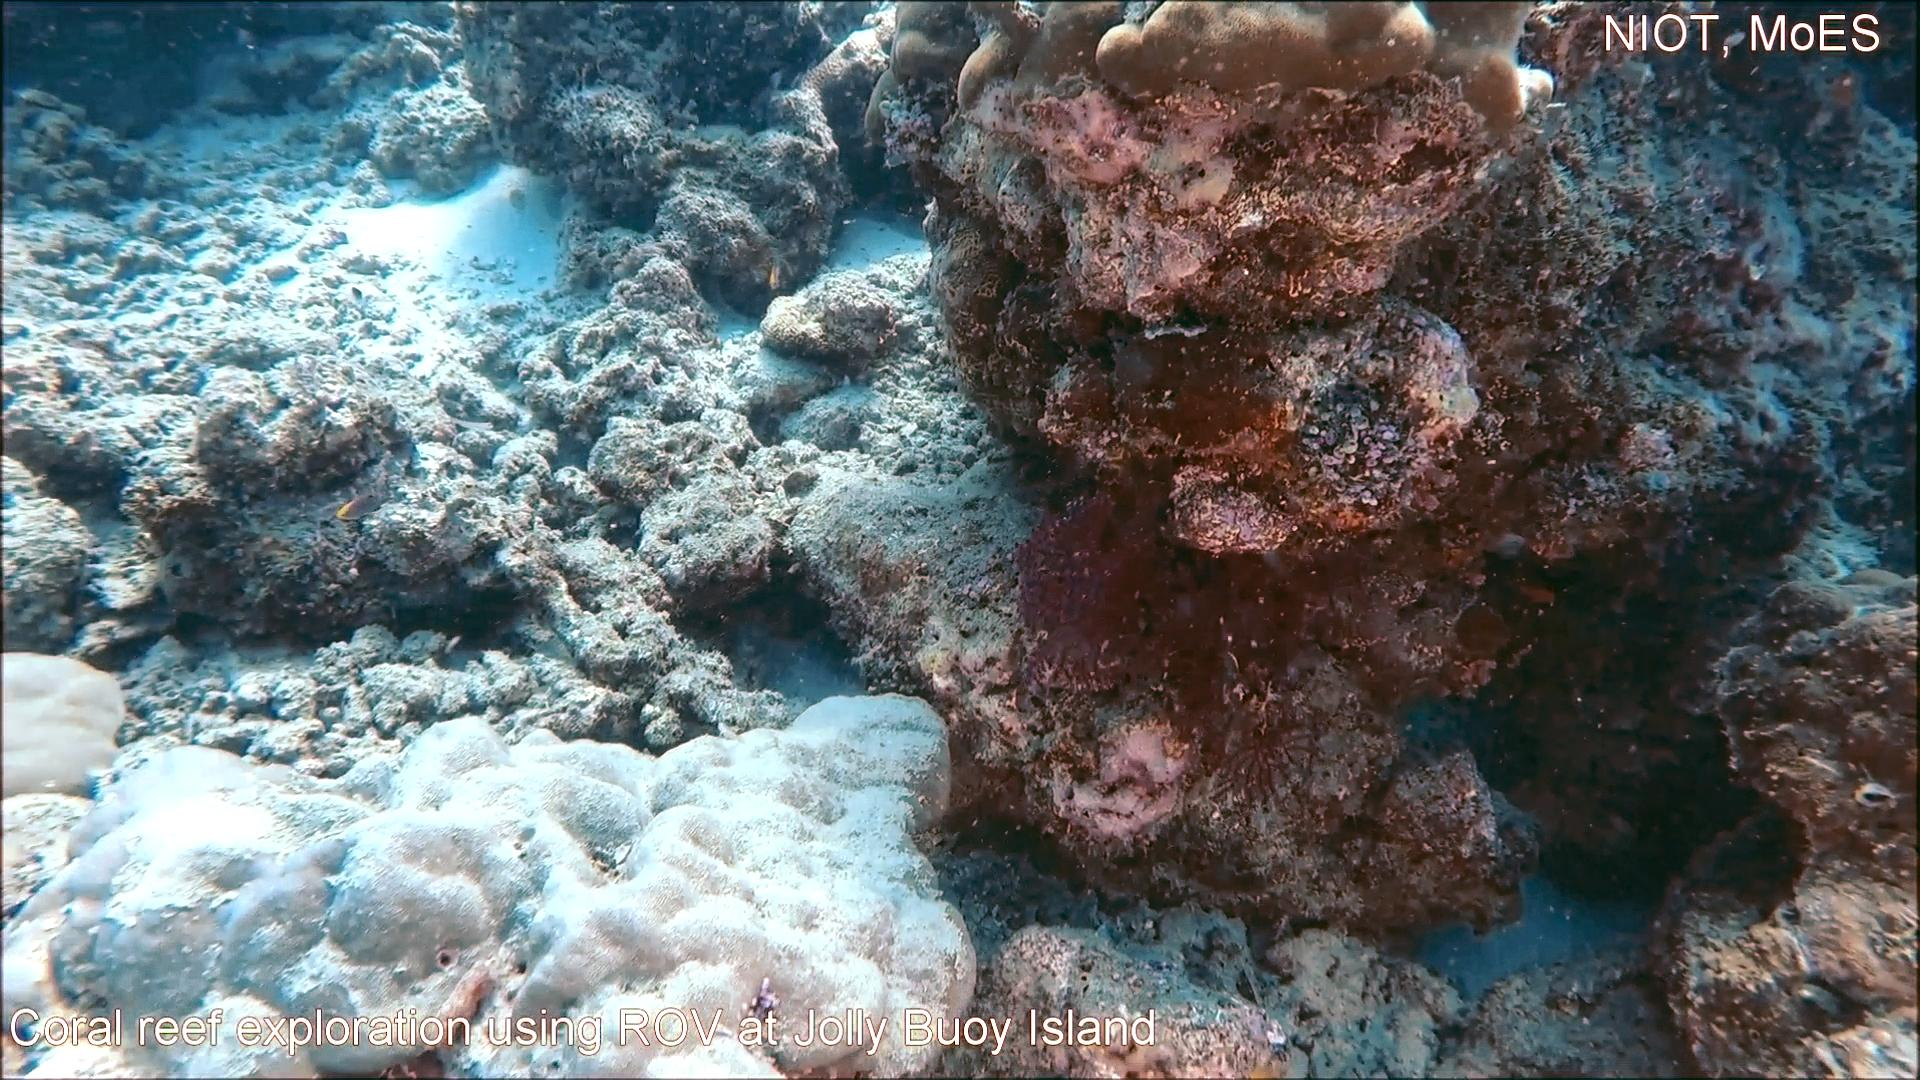Gorgonian-Purple Plexaura: (1007, 464, 1348, 823)
Porites-Porites pukoensis: (320, 688, 985, 1080), (953, 0, 1532, 148)
